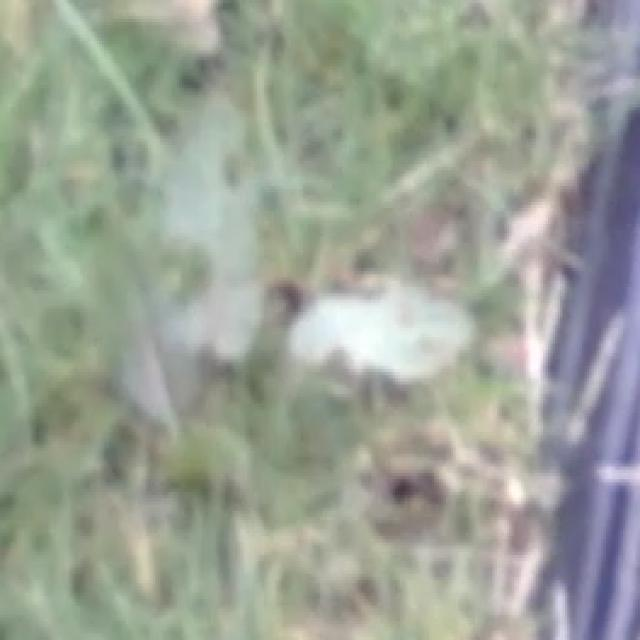organic waste: (80, 116, 479, 455)
